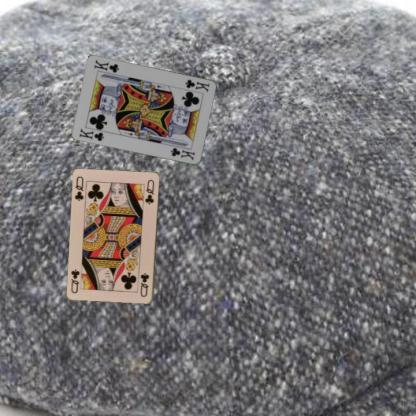Kc: (182, 77, 211, 93), (77, 126, 106, 142)
Qc: (72, 174, 85, 202), (138, 271, 150, 298)
